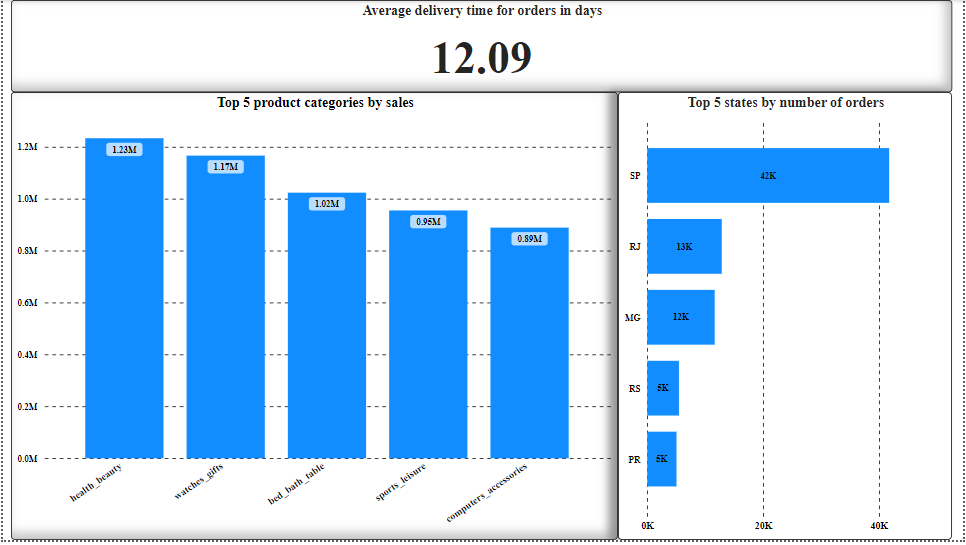

This screenshot's page, from the dashboard's own definition file:
{"tool":"powerbi","page":{"name":"Page 1","canvas":[1280,720],"ordinal":0},"visuals":[{"type":"lineStackedColumnComboChart","title":"Top 5 product categories by sales","fields":{"Category":["Top 5 product categories by sales.product_category_name_in_english"],"Y":["Sum(Top 5 product categories by sales.total_sales)"]},"box":[10.7,122.7,809.3,597.3],"z":0},{"type":"card","title":"Average delivery time for orders in days","fields":{"Values":["Sum(Average delivery time for orders.avg_delivery_time_days)"]},"box":[10.7,0,1254.7,122.7],"z":1000},{"type":"barChart","title":"Top 5 states by number of orders","fields":{"Category":["Top 5 states by number of orders (including rank).customer_state"],"Y":["Sum(Top 5 states by number of orders (including rank).total_orders)","Sum(Top 5 states by number of orders (including rank).order_rank)"]},"box":[820,122.7,445.3,597.3],"z":1001}]}

Visuals, with their boxes in screenshot pixels (x1, y1, x2, y2), scaled from the page's 1280x720 canvas onto the 966x545 screenshot:
"Top 5 product categories by sales" lineStackedColumnComboChart: crop(8, 93, 619, 544)
"Average delivery time for orders in days" card: crop(8, 0, 955, 93)
"Top 5 states by number of orders" barChart: crop(619, 93, 955, 544)
